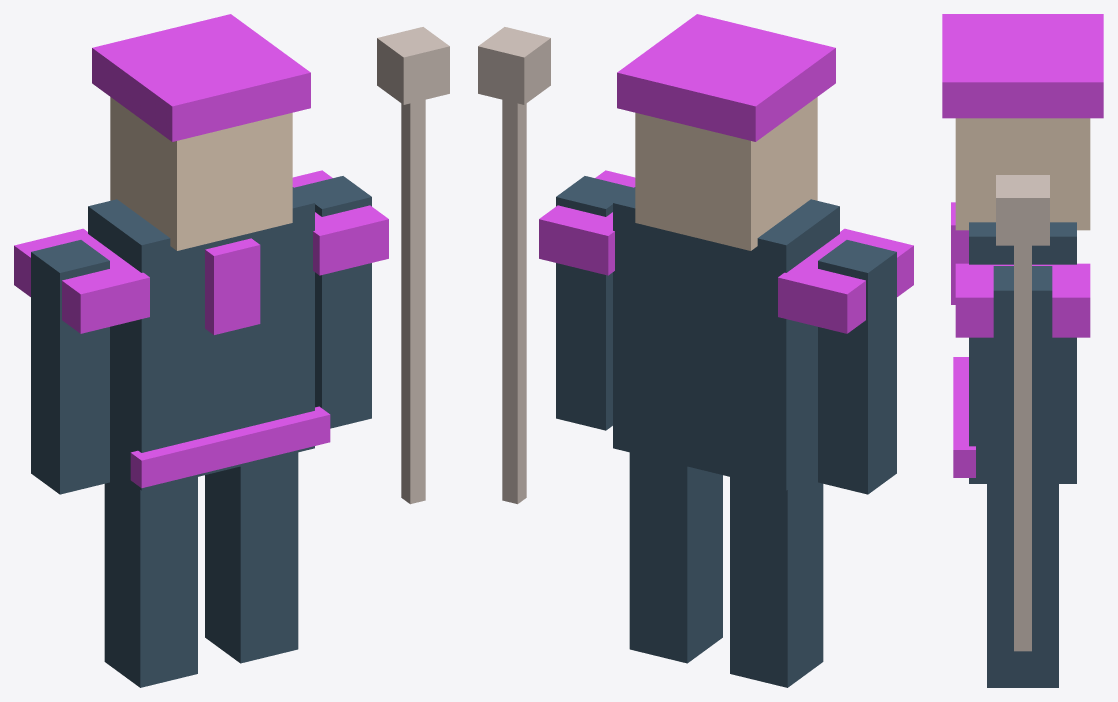
The model's file is 09_nix_starfall_pilgrim_from_kill.glb.
3 renders of one model, left to right at view 1: azimuth 30°, elevation 25°; view 2: azimuth 150°, elevation 25°; view 3: azimuth 270°, elevation 25°, orthographic.
Visible parts, largest first — view 1: Nix Starfall, Pilgrim from Kill; view 2: Nix Starfall, Pilgrim from Kill; view 3: Nix Starfall, Pilgrim from Kill.
Boxes of the visible parts, x1,y1,x2,y2 form: Nix Starfall, Pilgrim from Kill: (14, 14, 449, 687); Nix Starfall, Pilgrim from Kill: (478, 14, 913, 687); Nix Starfall, Pilgrim from Kill: (942, 14, 1103, 687).
Size of the model in its own units: 1.08 by 1.57 by 0.383.
